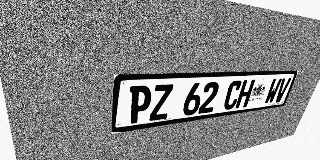2: (198, 81, 220, 114)
6: (182, 82, 205, 116)
C: (222, 80, 243, 110)
H: (235, 80, 255, 109)
P: (127, 85, 153, 124)
V: (273, 78, 292, 103)
W: (263, 78, 282, 104)
Z: (149, 84, 173, 121)
